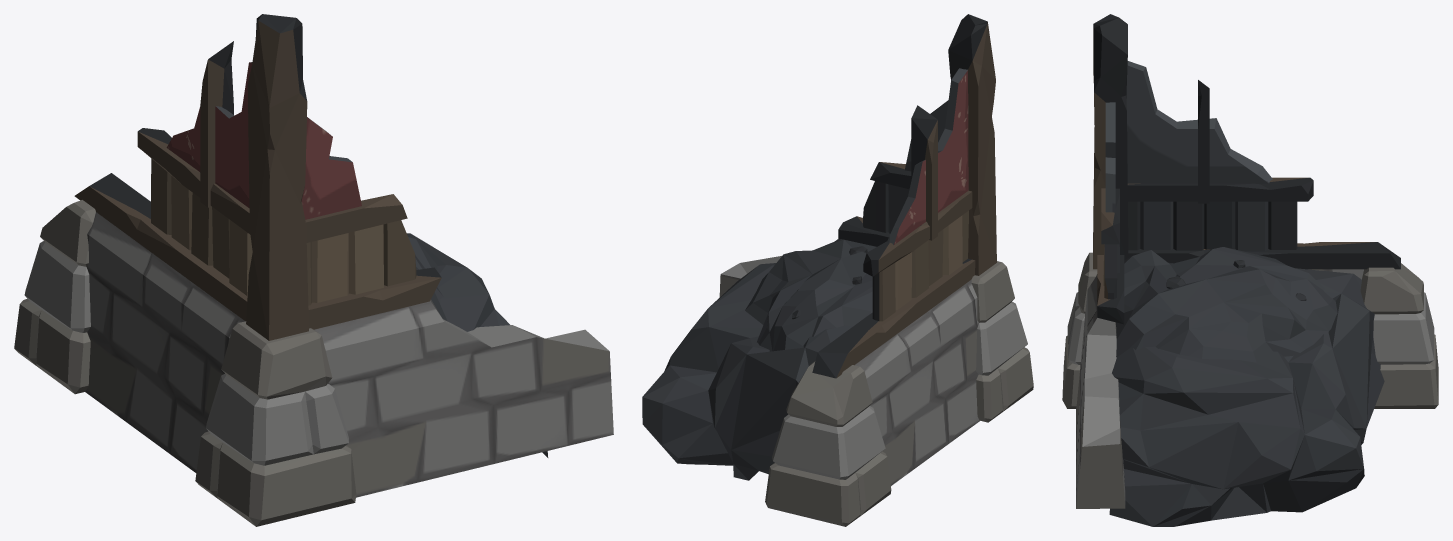
File: SM_Prop_Destroyed_House_Piece_03_Burnt.fbx
3 views of the same model, side by side, from view 1: azimuth 30°, elevation 25°; view 2: azimuth 150°, elevation 25°; view 3: azimuth 270°, elevation 25° (orthographic). The views are drawn at different scales.
Parts seen in each view (by area): view 1: SM_Prop_Destroyed_House_Piece_03_Burnt; view 2: SM_Prop_Destroyed_House_Piece_03_Burnt; view 3: SM_Prop_Destroyed_House_Piece_03_Burnt.
Part boxes in pixels (x1=…): SM_Prop_Destroyed_House_Piece_03_Burnt: x1=14, y1=14, x2=613, y2=526; SM_Prop_Destroyed_House_Piece_03_Burnt: x1=642, y1=14, x2=1033, y2=526; SM_Prop_Destroyed_House_Piece_03_Burnt: x1=1062, y1=14, x2=1438, y2=526.
Bounding box in the file's own units: 293 × 399 × 336.
1 material, 1 textured.
